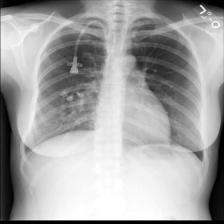normal: (19, 10, 210, 172)
